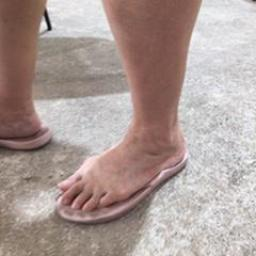Lateral View -Left Foot-: (53, 112, 194, 213)
